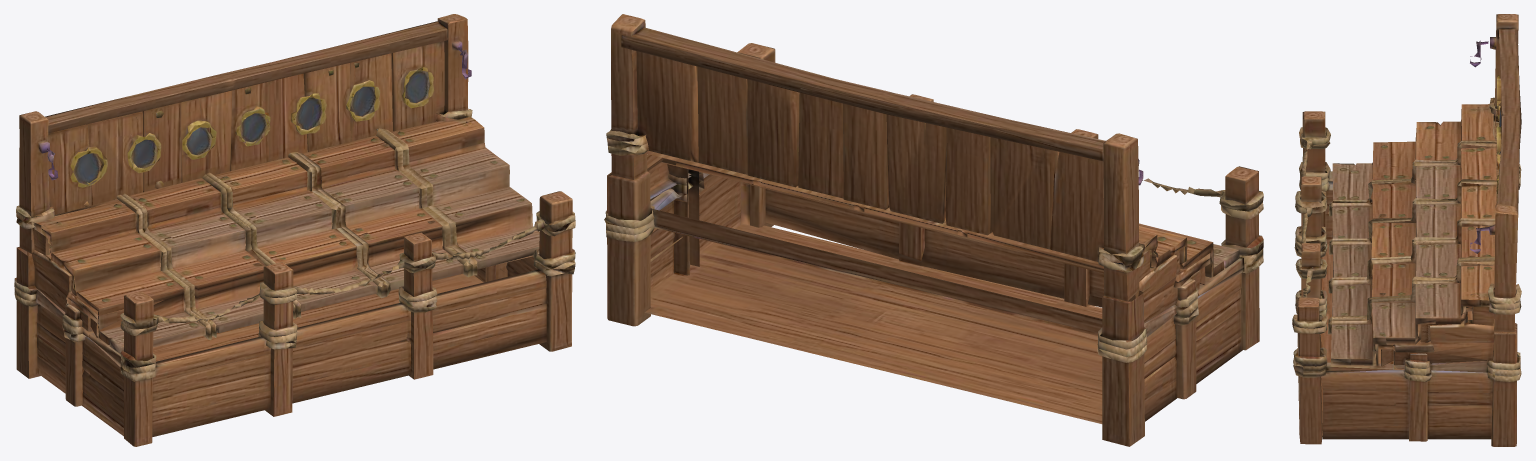
File: playa_grada.glb
3 views of the same model, side by side, from view 1: azimuth 30°, elevation 25°; view 2: azimuth 150°, elevation 25°; view 3: azimuth 270°, elevation 25° (orthographic). The views are drawn at different scales.
Parts seen in each view (by area): view 1: tripo_node_018a1506-10f9-481e-8e46-891904f9cb44; view 2: tripo_node_018a1506-10f9-481e-8e46-891904f9cb44; view 3: tripo_node_018a1506-10f9-481e-8e46-891904f9cb44.
Part boxes in pixels (left/top/right/bottom): tripo_node_018a1506-10f9-481e-8e46-891904f9cb44: left=14, top=14, right=575, bottom=446; tripo_node_018a1506-10f9-481e-8e46-891904f9cb44: left=604, top=14, right=1263, bottom=446; tripo_node_018a1506-10f9-481e-8e46-891904f9cb44: left=1292, top=14, right=1521, bottom=446.
Bounding box in the file's own units: 0.9942 × 0.5366 × 0.4753.
1 material, 1 textured.
